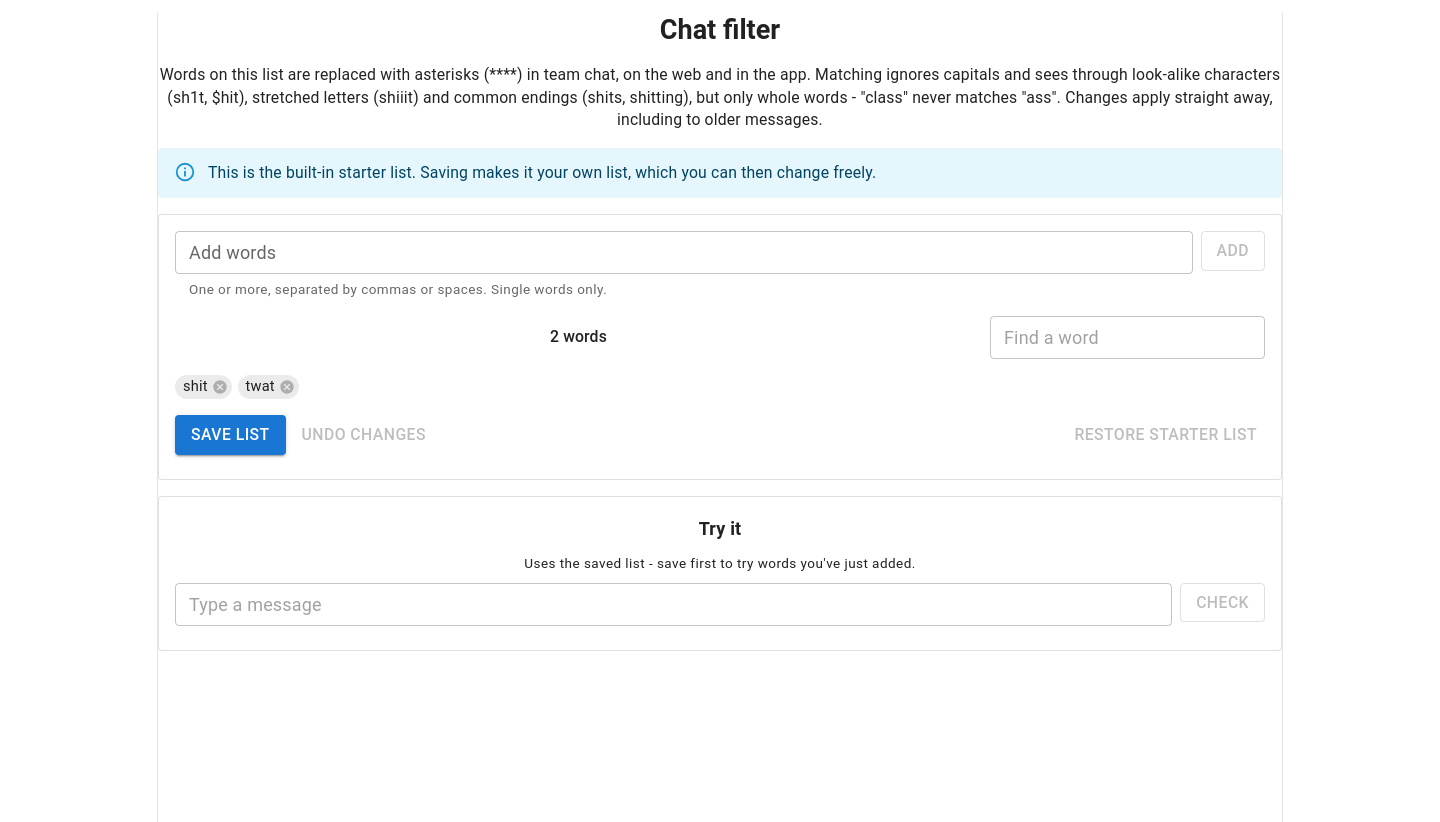
it: ChatFilterPage › adds pasted words, removes one, and saves the whole list
Expected: the text "shit" is shown, [183,377,208,395]
Expected: the text "built-in starter list" is shown, [208,163,876,182]
Type "Bibs, cones" into the field labelled "Add words" at (684, 253), box [175,231,1193,274]
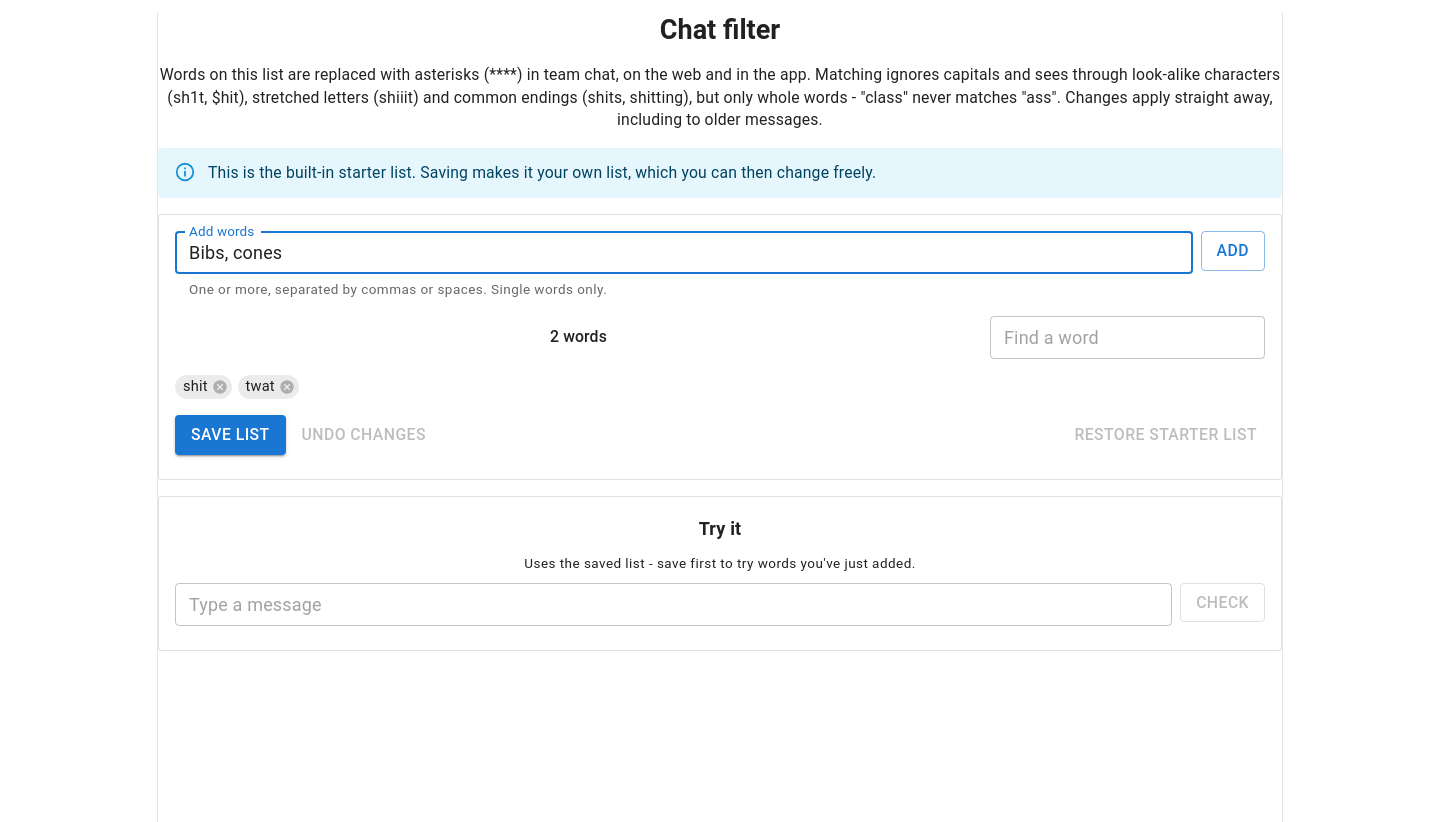
Click the button "Add" at (1233, 251), box [1201,231,1265,271]
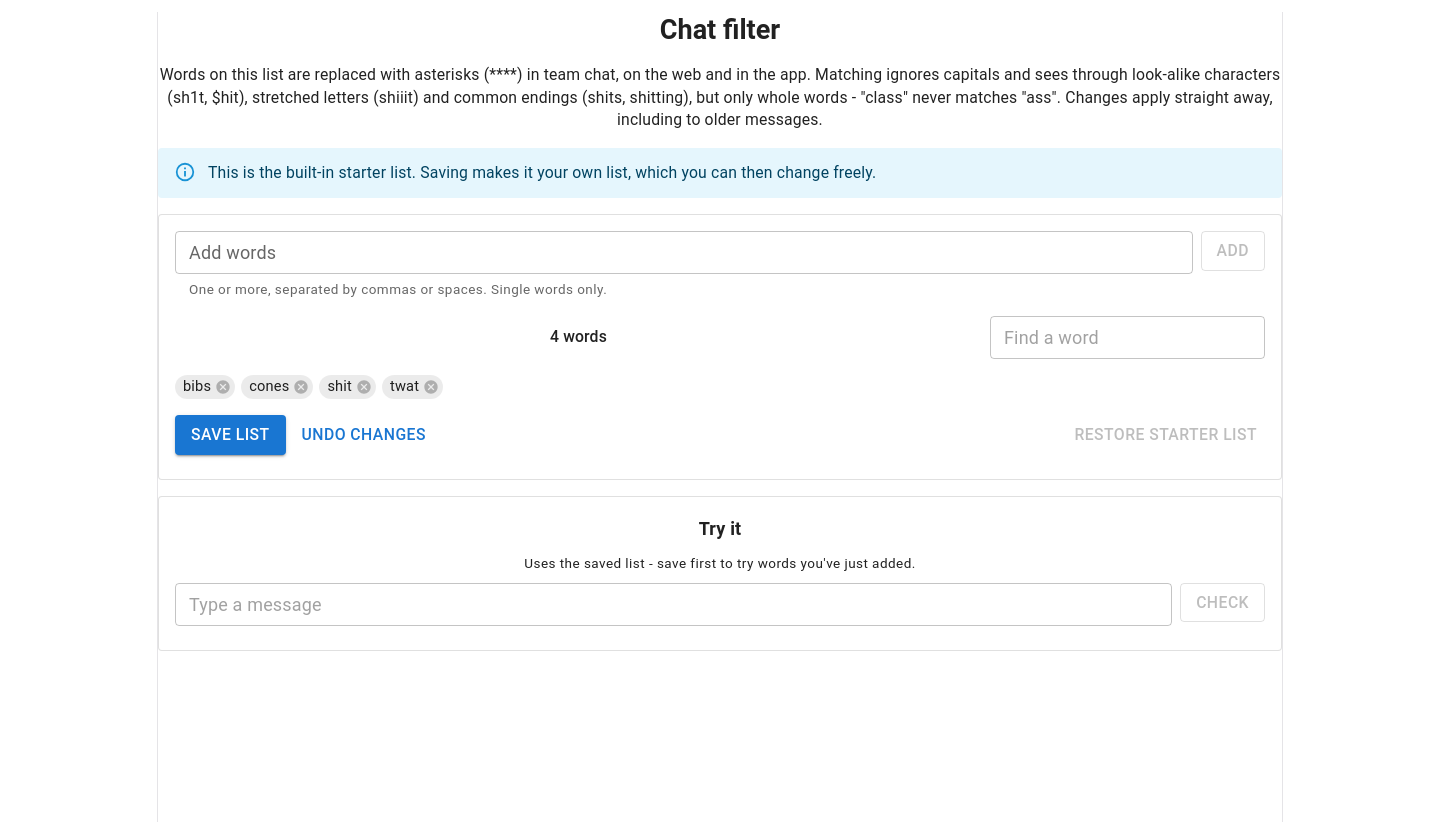
Note: Chips are sorted, so the first delete icon is "bibs".
Click the 1st icon with test id "CancelIcon" at (223, 387), box [215,379,231,395]
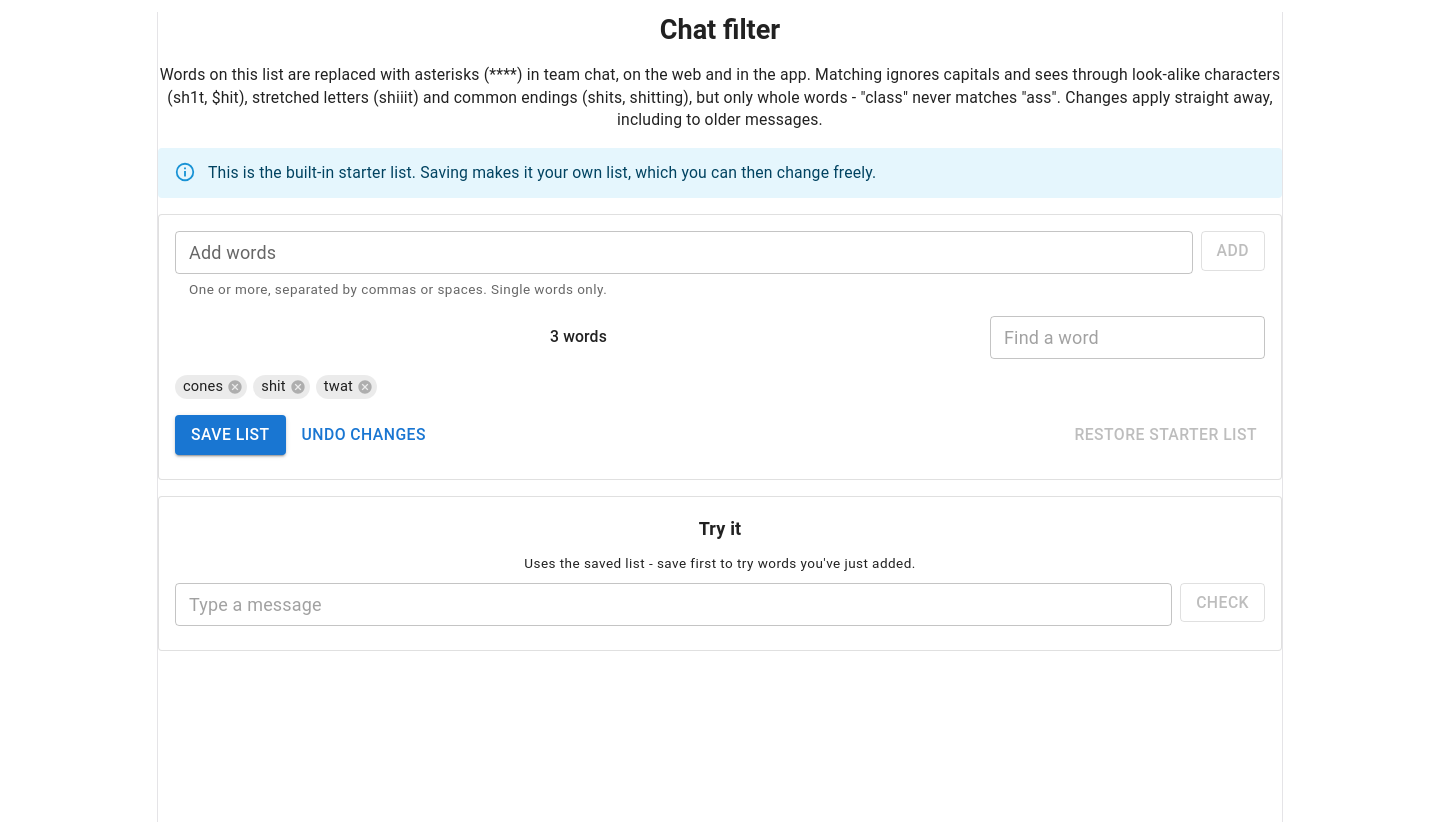
Click the button "Save list" at (230, 435), box [175,415,286,455]
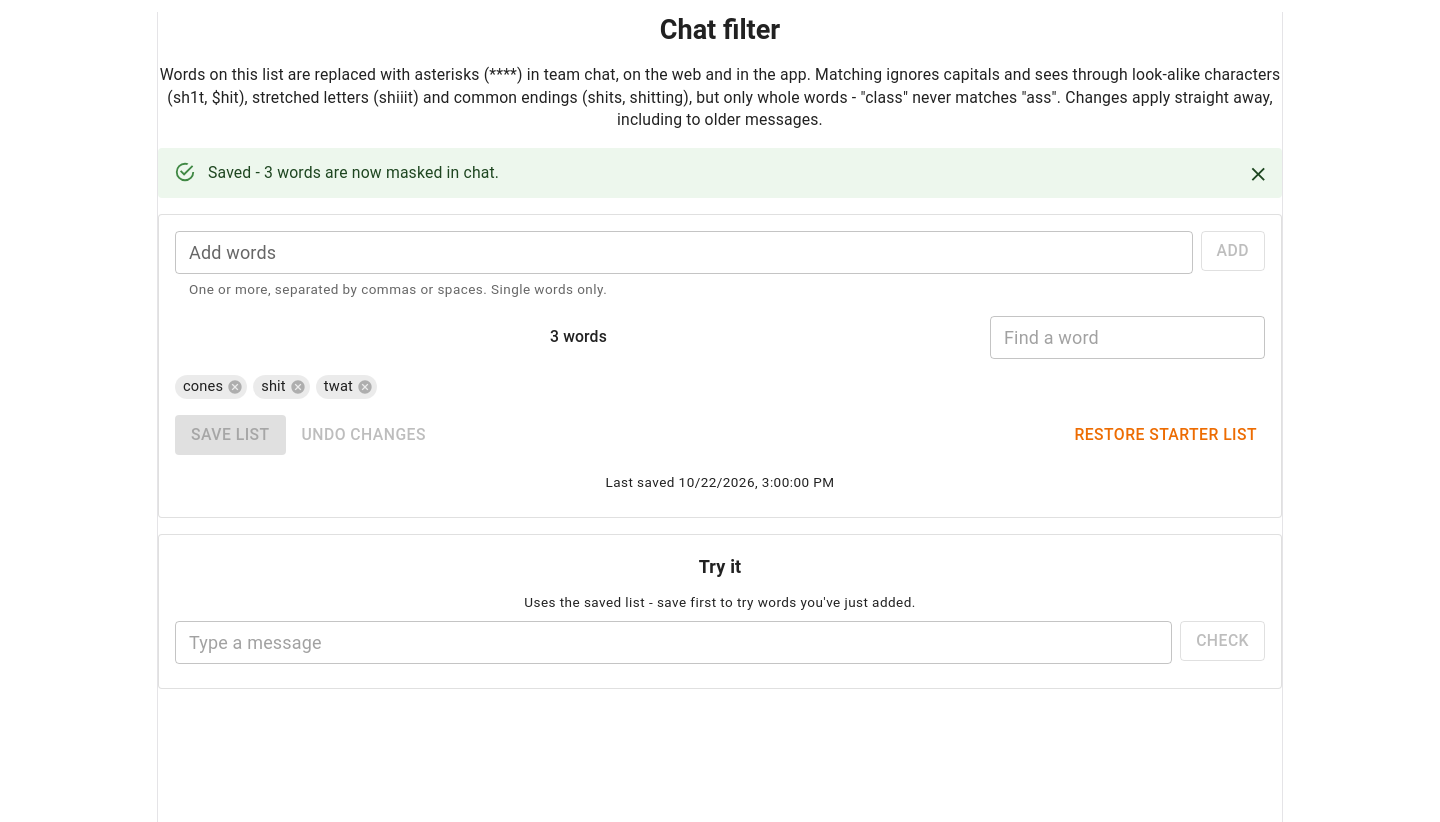
Expected: the text "Saved - 3 words are now masked in chat." is shown, [208,163,499,182]
